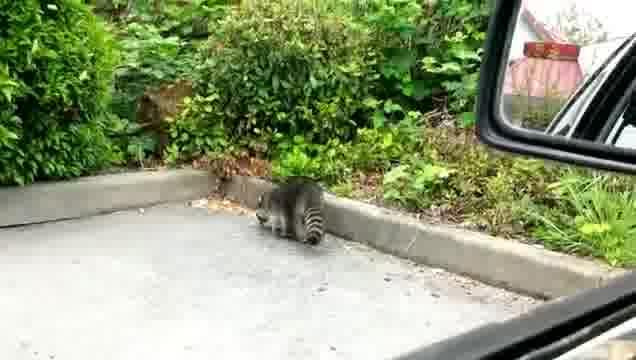raccoon: (256, 178, 326, 250)
